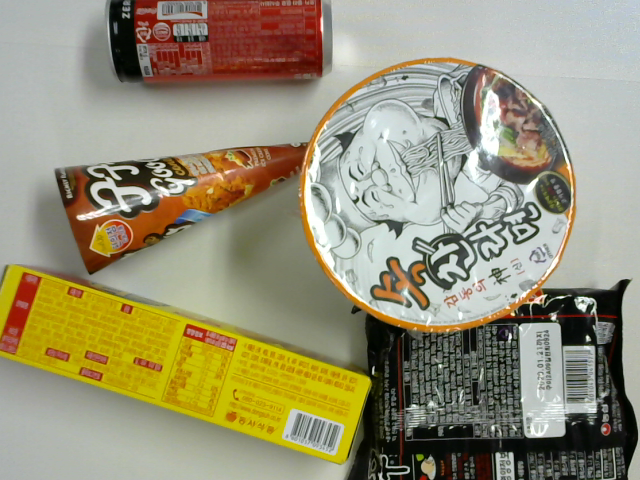Coca_Cola_Zero_Can_250ml: (102, 2, 335, 85)
GooGoo_Cone_CVS: (56, 141, 322, 272)
Hejangchan: (298, 60, 574, 327)
Ritz_Remon_96g: (1, 264, 371, 460)
Sinramen_Black: (365, 286, 624, 480)
